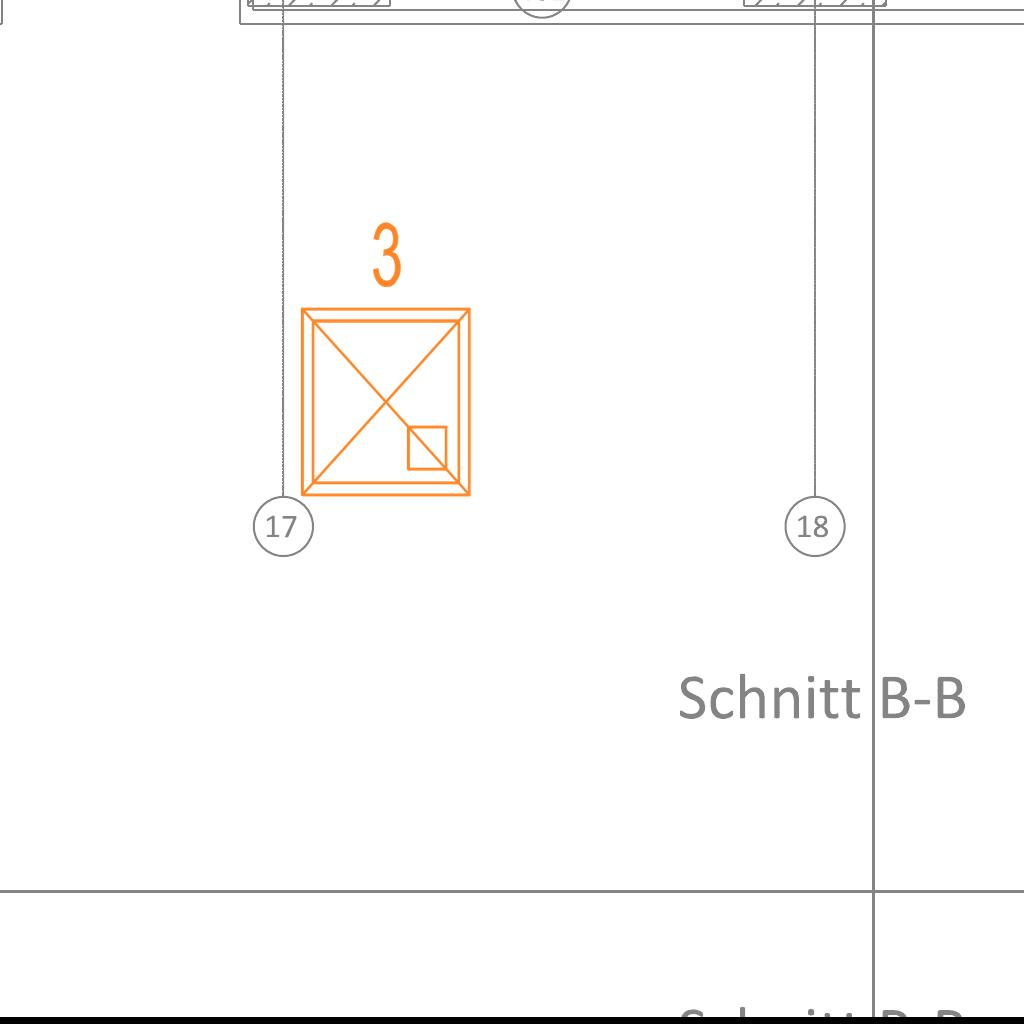Einbaudownlights_LED_Konferenzraeume: (278, 211, 486, 511)
